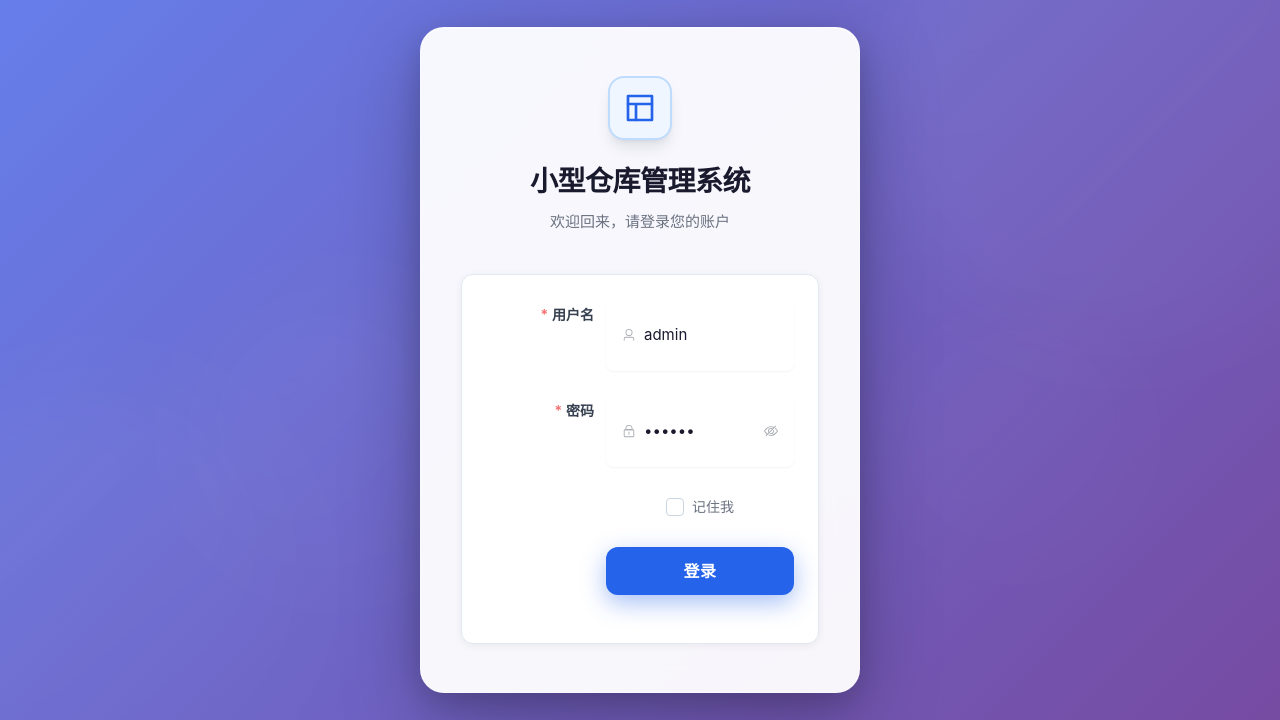
Test case: 🎯 全面的端到端测试套件 › 🔐 登录认证模块测试 › 应该处理无效登录凭证
The image size is (1280, 720).
Step 1. Type "invalid_user_12345" into the field with test id "login-username-input" → {"x": 711, "y": 335}, box [644,311,778,359]
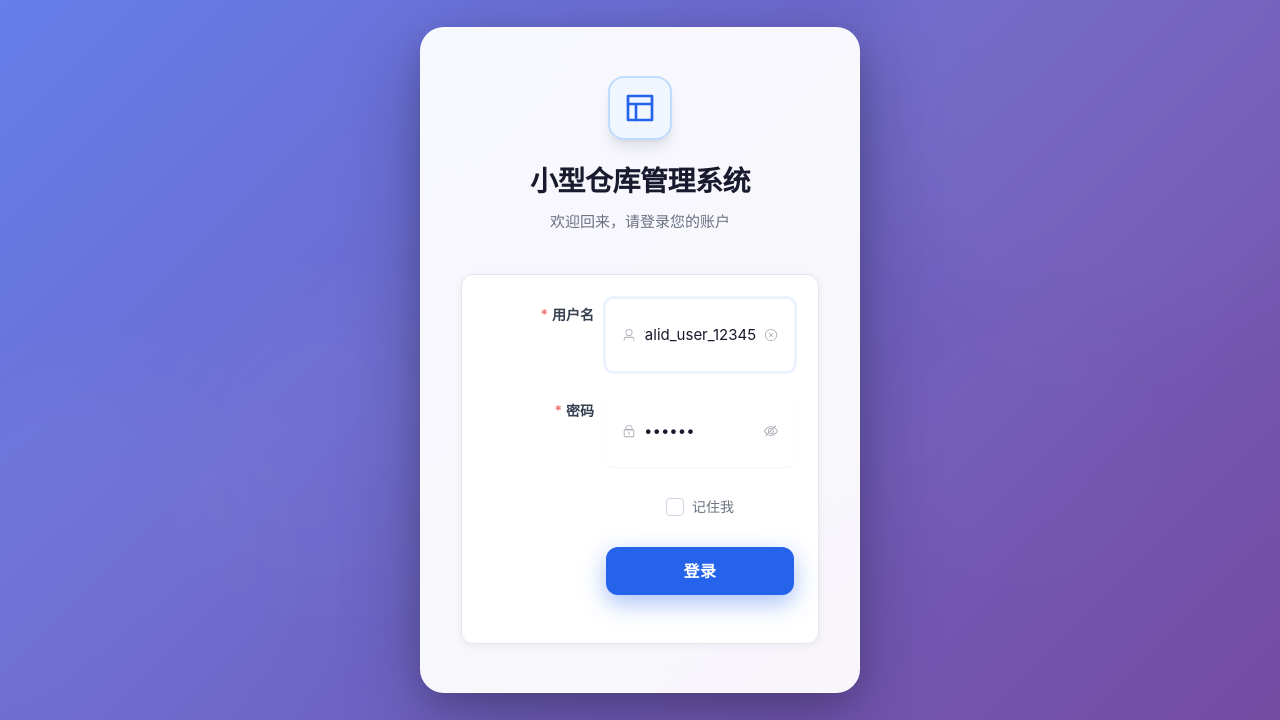
Step 2. Type "wrong_password" into the password field with test id "login-password-input" → {"x": 700, "y": 431}, box [644,407,756,455]
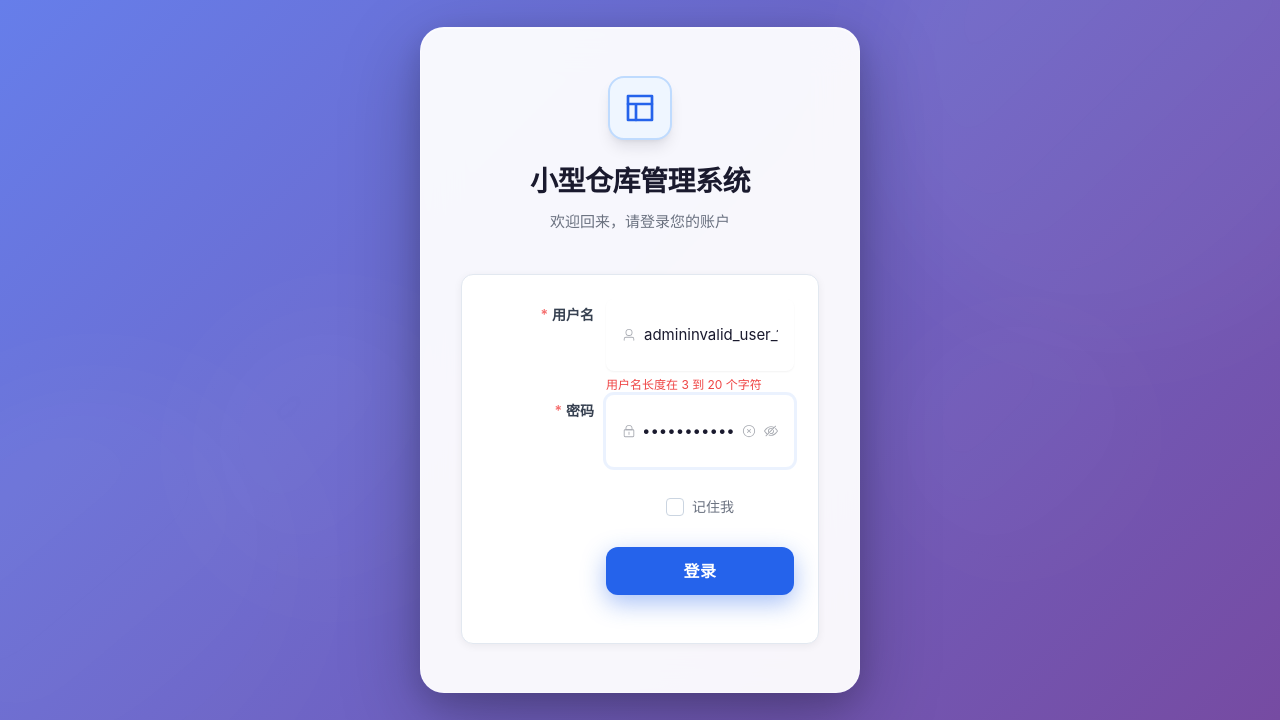
Step 3. Click the button with test id "login-submit-button" → {"x": 700, "y": 571}, box [606,547,794,595]
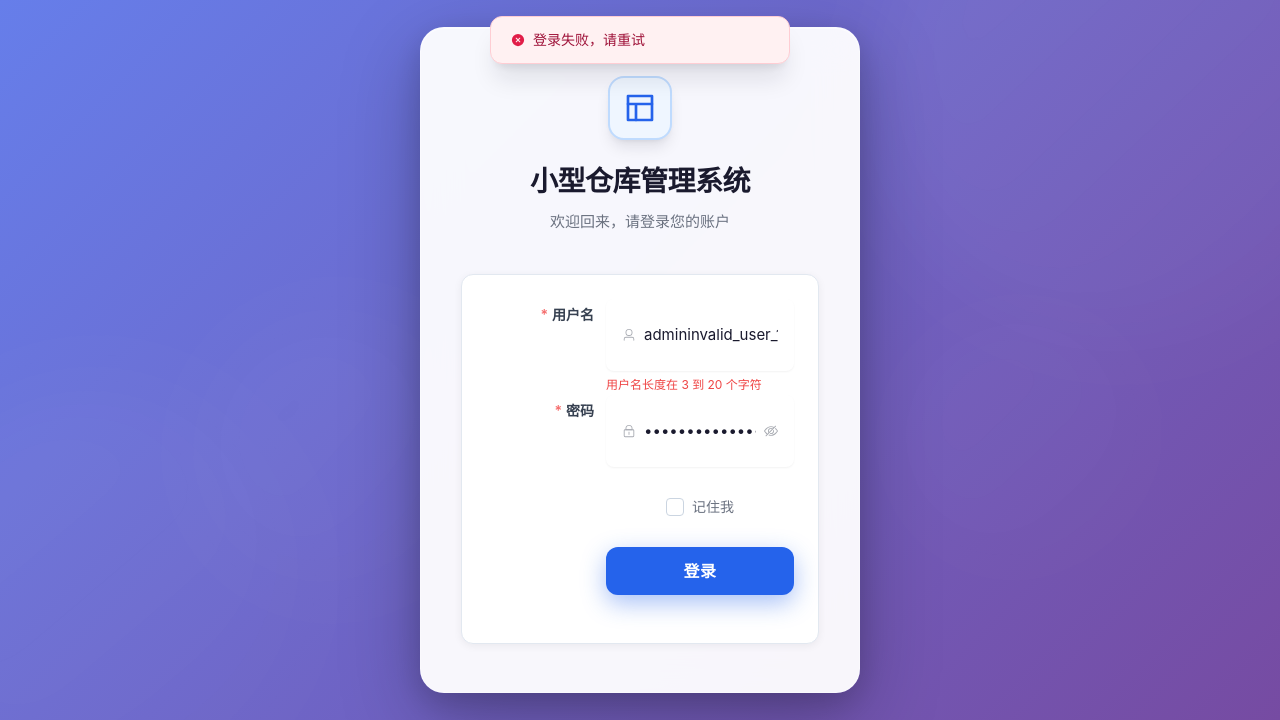
expect the message "登录失败，请重试" is shown: met, box [490,16,790,64]
